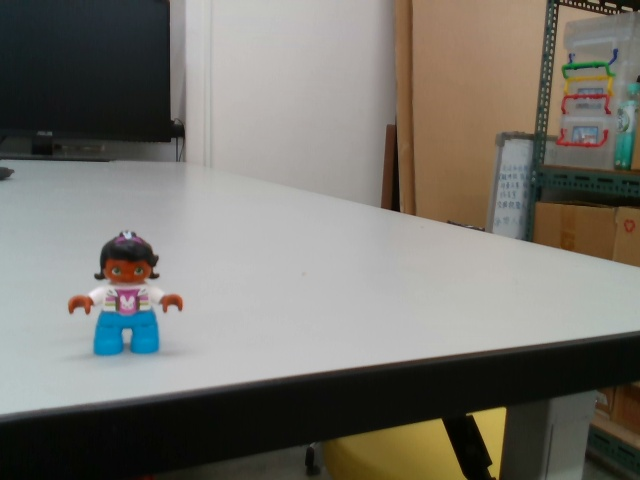people: (64, 228, 187, 361)
